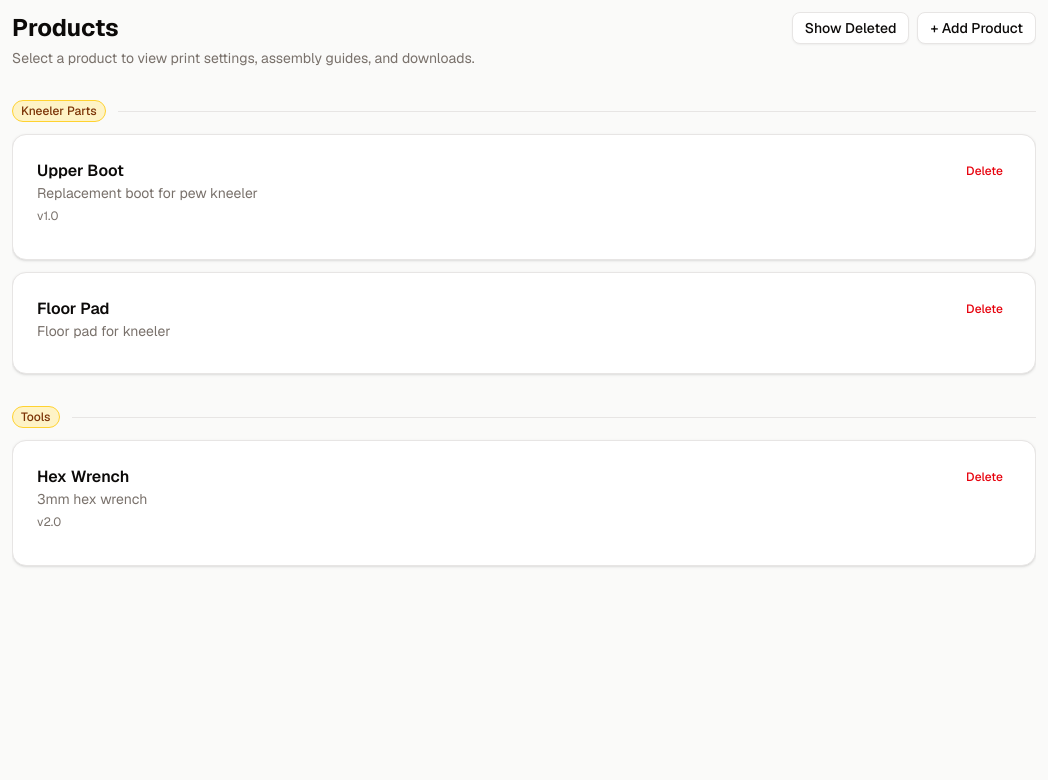
Test: NewProductsPage › shows deleted products when Show Deleted is clicked
Check: the text "Upper Boot" is shown, box [37,160,124,181]
Click the button "Show Deleted": (851, 28) [792,12,909,44]
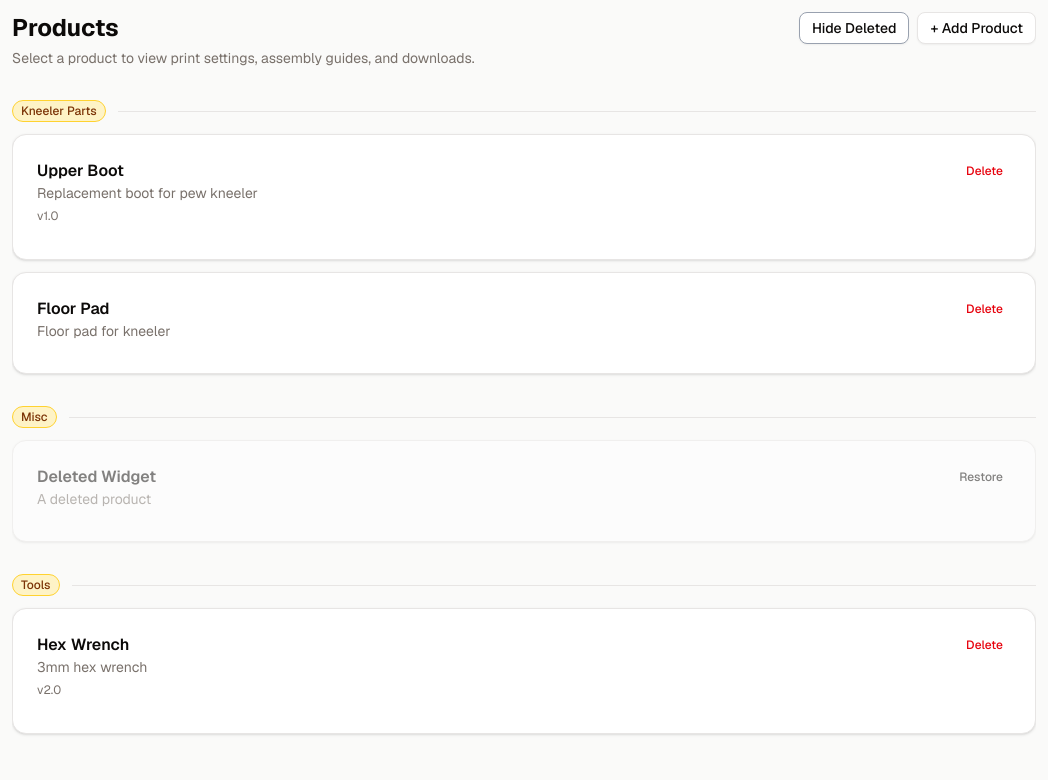
Check: the text "Deleted Widget" is shown, box [37,466,156,487]
Check: the button "Hide Deleted" is shown, box [799,12,909,44]
